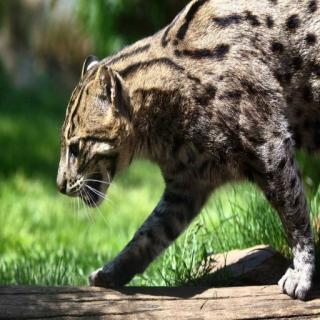Leopard: (42, 21, 320, 310)
